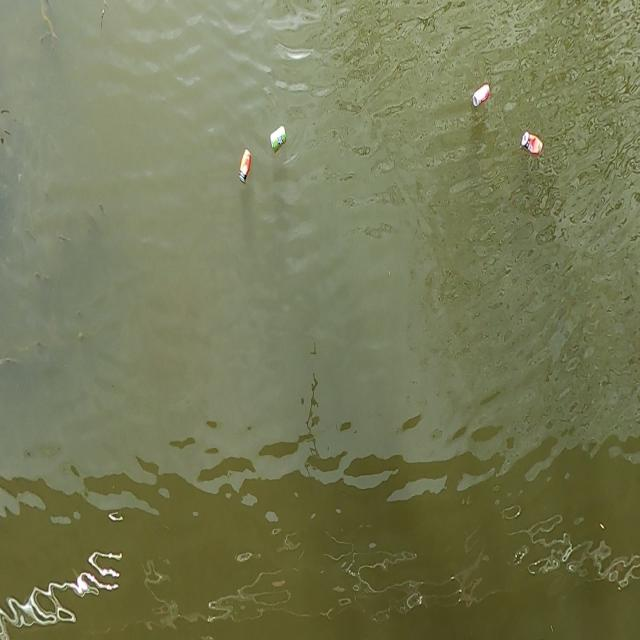Non plastique: (519, 130, 544, 158), (237, 146, 254, 185), (474, 79, 494, 110), (269, 125, 288, 155)
